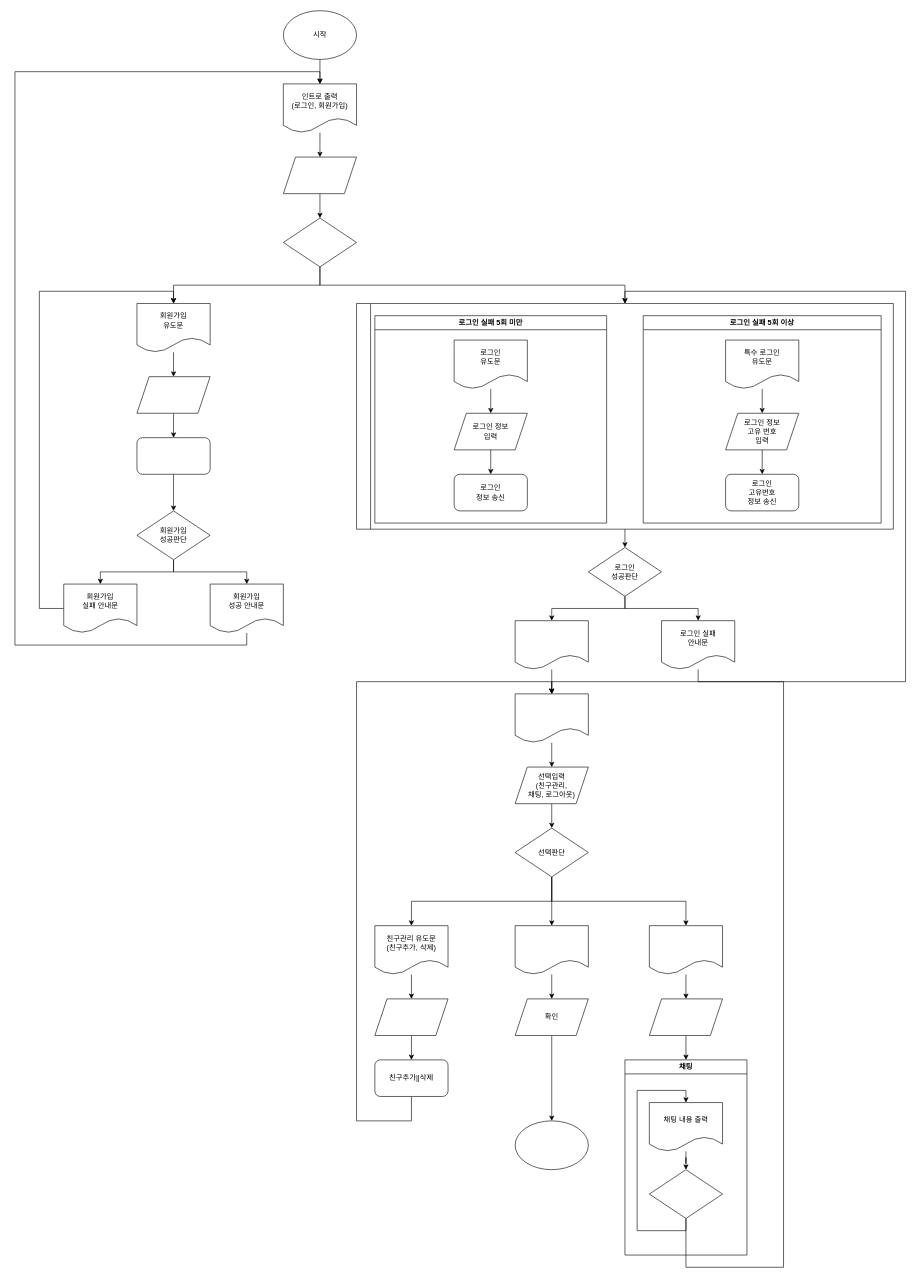
Image size: 921x1283. Some labels were removed from this diagram. The shapes that lost their labels are listed below. From the top down, each one's centre as x and y in pixels, then its label:
At point (320, 175): "선택 입력".
At point (320, 242): "선택 판단".
At point (173, 394): "회원가입 정보 입력".
At point (173, 455): "회원 가입 정보 송신".
At point (551, 644): "로그인 성공 안내문".
At point (551, 718): "채팅기능 안내문 (친구목록, 친구상태 채팅, 로그아웃)".
At point (551, 949): "로그아웃 확인문".
At point (686, 949): "채팅 유도문 (채팅할 친구선택)".
At point (411, 1016): "선택입력".
At point (686, 1016): "친구 입력".
At point (551, 1145): "종료".
At point (686, 1193): "종료판단".
